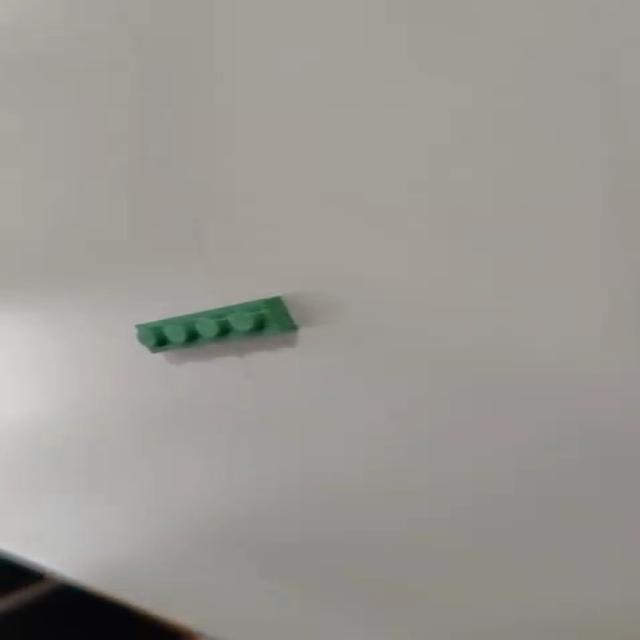C4x1x0: (127, 292, 303, 357)
